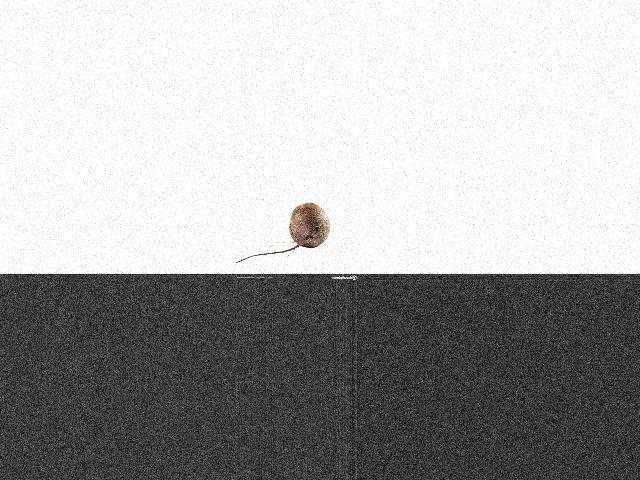beet: (235, 203, 329, 263)
